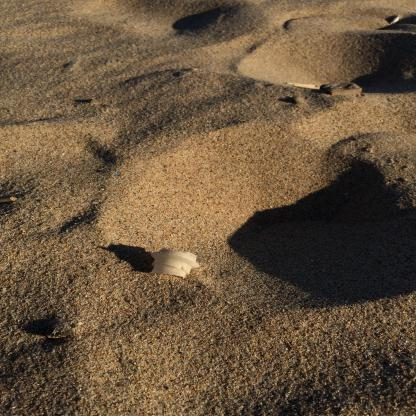plastik: (148, 249, 202, 280)
